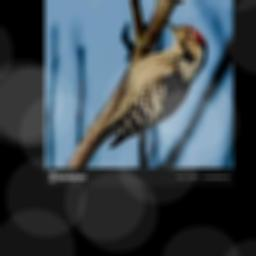Woodpecker: (96, 21, 207, 148)
